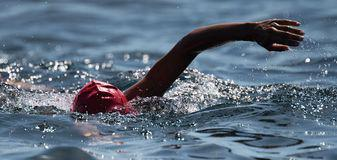swimmer: (70, 18, 304, 118)
